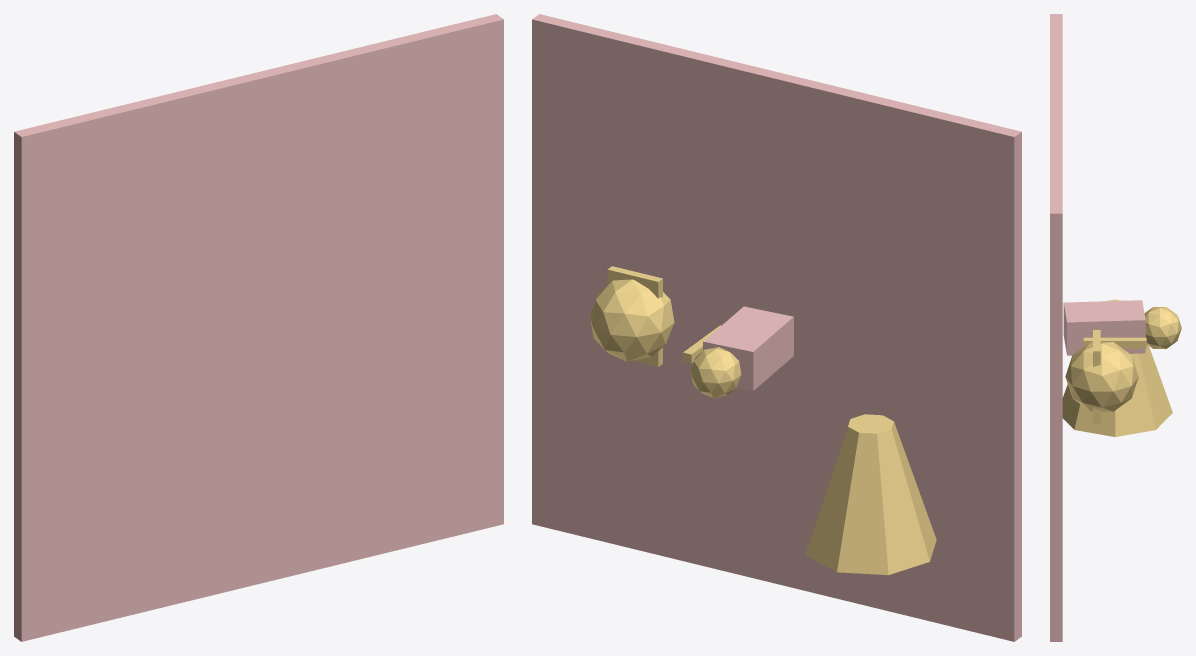
The model's file is crown-and-dagger-kit.glb.
3 renders of one model, left to right at view 1: azimuth 30°, elevation 25°; view 2: azimuth 150°, elevation 25°; view 3: azimuth 270°, elevation 25°, orthographic. The views are drawn at different scales.
Visible parts, largest first — view 1: ENVIRONMENT_GROUND; view 2: ENVIRONMENT_GROUND, ENVIRONMENT_LANDMARK, OBSTACLE, PLAYER_BODY, PLAYER_HEAD, PROFILE_OBSTACLE_DETAIL; view 3: ENVIRONMENT_GROUND, ENVIRONMENT_LANDMARK, OBSTACLE, PLAYER_BODY, PLAYER_HEAD, PLAYER_TOOL, PROFILE_OBSTACLE_DETAIL.
Part boxes in pixels (bbox=[...]): ENVIRONMENT_GROUND: bbox=[14, 14, 503, 641]; ENVIRONMENT_GROUND: bbox=[532, 14, 1021, 641]; ENVIRONMENT_LANDMARK: bbox=[805, 414, 936, 575]; OBSTACLE: bbox=[590, 279, 674, 361]; PLAYER_BODY: bbox=[703, 306, 793, 390]; PLAYER_HEAD: bbox=[690, 347, 741, 398]; PROFILE_OBSTACLE_DETAIL: bbox=[607, 266, 662, 366]; ENVIRONMENT_GROUND: bbox=[1050, 14, 1062, 641]; ENVIRONMENT_LANDMARK: bbox=[1062, 299, 1172, 436]; OBSTACLE: bbox=[1065, 342, 1138, 411]; PLAYER_BODY: bbox=[1063, 300, 1145, 355]; PLAYER_HEAD: bbox=[1144, 307, 1181, 348]; PLAYER_TOOL: bbox=[1083, 337, 1146, 348]; PROFILE_OBSTACLE_DETAIL: bbox=[1093, 330, 1100, 423].
Size of what is drawn, in the model's own units: 9 by 9 by 2.51.
